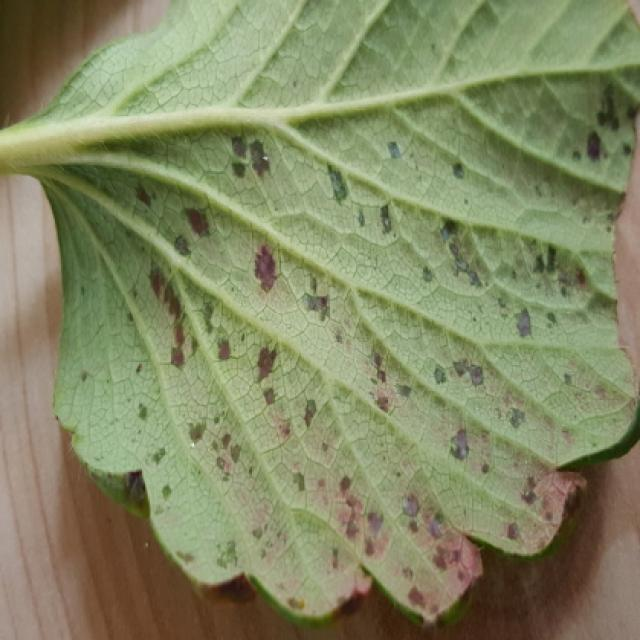Angular Leafspot: (51, 80, 640, 634)
